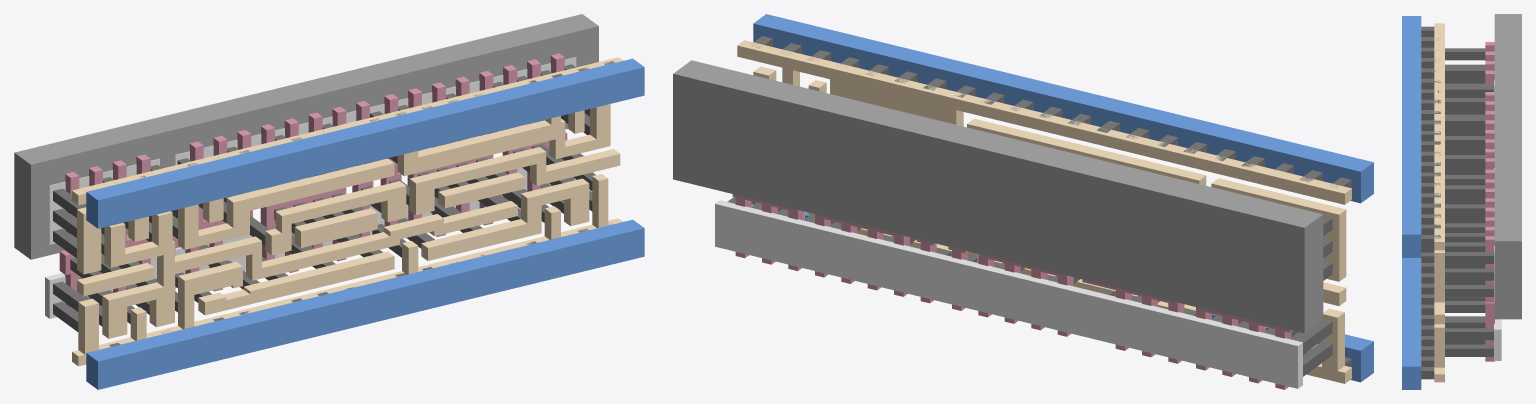
Rendered from sky130_fd_sc_hd__a221oi_4.gds.gltf.
3 views of the same model, side by side, from view 1: azimuth 30°, elevation 25°; view 2: azimuth 150°, elevation 25°; view 3: azimuth 270°, elevation 25° (orthographic). The views are drawn at different scales.
Parts seen in each view (by area): view 1: sky130_fd_sc_hd__a221oi_4_li1, sky130_fd_sc_hd__a221oi_4_met1, sky130_fd_sc_hd__a221oi_4_nwell, sky130_fd_sc_hd__a221oi_4_licon, sky130_fd_sc_hd__a221oi_4_poly, sky130_fd_sc_hd__a221oi_4_diff, sky130_fd_sc_hd__a221oi_4_mcon; view 2: sky130_fd_sc_hd__a221oi_4_nwell, sky130_fd_sc_hd__a221oi_4_diff, sky130_fd_sc_hd__a221oi_4_li1, sky130_fd_sc_hd__a221oi_4_met1, sky130_fd_sc_hd__a221oi_4_poly, sky130_fd_sc_hd__a221oi_4_mcon, sky130_fd_sc_hd__a221oi_4_licon; view 3: sky130_fd_sc_hd__a221oi_4_licon, sky130_fd_sc_hd__a221oi_4_nwell, sky130_fd_sc_hd__a221oi_4_met1, sky130_fd_sc_hd__a221oi_4_mcon, sky130_fd_sc_hd__a221oi_4_li1, sky130_fd_sc_hd__a221oi_4_poly, sky130_fd_sc_hd__a221oi_4_diff.
Part boxes in pixels (bbox=[...]): sky130_fd_sc_hd__a221oi_4_li1: bbox=[72, 57, 622, 366]; sky130_fd_sc_hd__a221oi_4_met1: bbox=[86, 58, 644, 389]; sky130_fd_sc_hd__a221oi_4_nwell: bbox=[14, 14, 598, 259]; sky130_fd_sc_hd__a221oi_4_licon: bbox=[53, 64, 595, 331]; sky130_fd_sc_hd__a221oi_4_poly: bbox=[59, 53, 567, 312]; sky130_fd_sc_hd__a221oi_4_diff: bbox=[45, 57, 576, 318]; sky130_fd_sc_hd__a221oi_4_mcon: bbox=[109, 61, 614, 346]; sky130_fd_sc_hd__a221oi_4_nwell: bbox=[673, 60, 1323, 333]; sky130_fd_sc_hd__a221oi_4_diff: bbox=[715, 200, 1302, 388]; sky130_fd_sc_hd__a221oi_4_li1: bbox=[737, 40, 1351, 383]; sky130_fd_sc_hd__a221oi_4_met1: bbox=[753, 14, 1373, 382]; sky130_fd_sc_hd__a221oi_4_poly: bbox=[732, 194, 1292, 389]; sky130_fd_sc_hd__a221oi_4_mcon: bbox=[751, 36, 1351, 367]; sky130_fd_sc_hd__a221oi_4_licon: bbox=[727, 197, 1332, 376]; sky130_fd_sc_hd__a221oi_4_licon: bbox=[1445, 48, 1493, 356]; sky130_fd_sc_hd__a221oi_4_nwell: bbox=[1494, 14, 1521, 319]; sky130_fd_sc_hd__a221oi_4_met1: bbox=[1402, 16, 1421, 389]; sky130_fd_sc_hd__a221oi_4_mcon: bbox=[1421, 26, 1440, 379]; sky130_fd_sc_hd__a221oi_4_li1: bbox=[1434, 23, 1444, 382]; sky130_fd_sc_hd__a221oi_4_poly: bbox=[1485, 42, 1494, 361]; sky130_fd_sc_hd__a221oi_4_diff: bbox=[1494, 80, 1501, 360].
Bounding box in the file's own units: 10.04 × 3.2 × 2.24.
